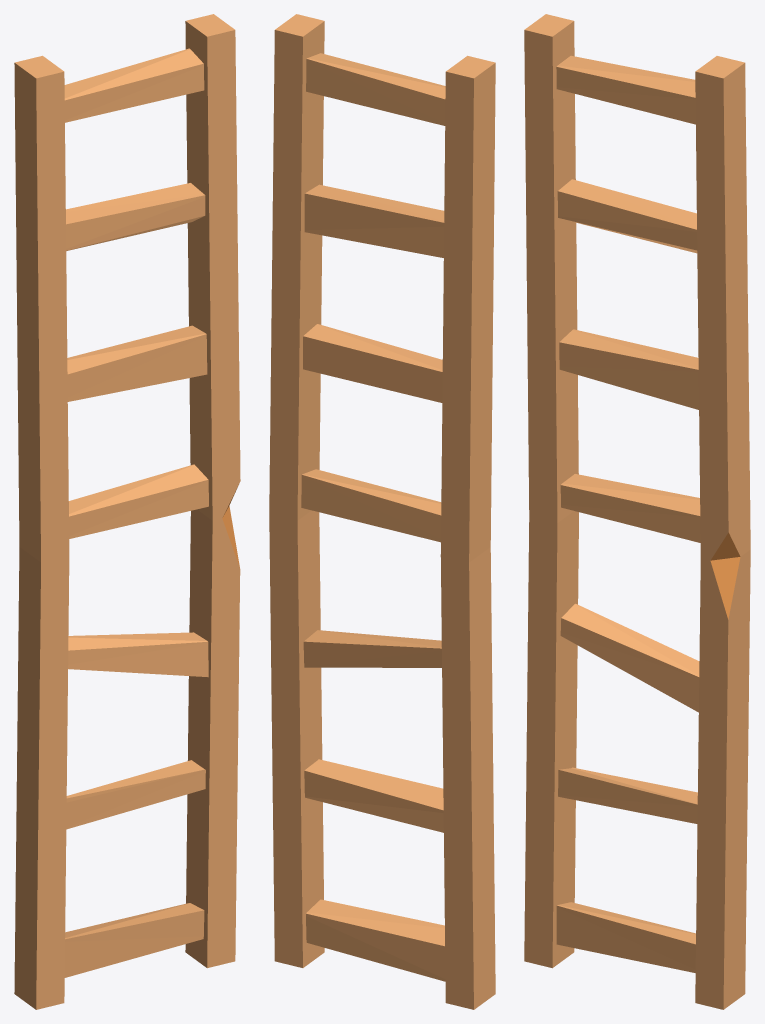
Rendered from ladder.03.fbx.
3 views of the same model, side by side, from view 1: azimuth 30°, elevation 25°; view 2: azimuth 150°, elevation 25°; view 3: azimuth 330°, elevation 25° (orthographic).
Parts seen in each view (by area): view 1: ladder.03; view 2: ladder.03; view 3: ladder.03.
Boxes of the visible parts, <box> form: ladder.03: <box>14,14,240,1009</box>; ladder.03: <box>269,14,495,1009</box>; ladder.03: <box>524,14,750,1009</box>.
Size of the model in its own units: 0.6341 by 2.76 by 0.1164.
